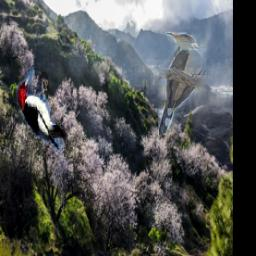Cuckoo: (158, 33, 206, 137)
Woodpecker: (11, 67, 69, 154)
